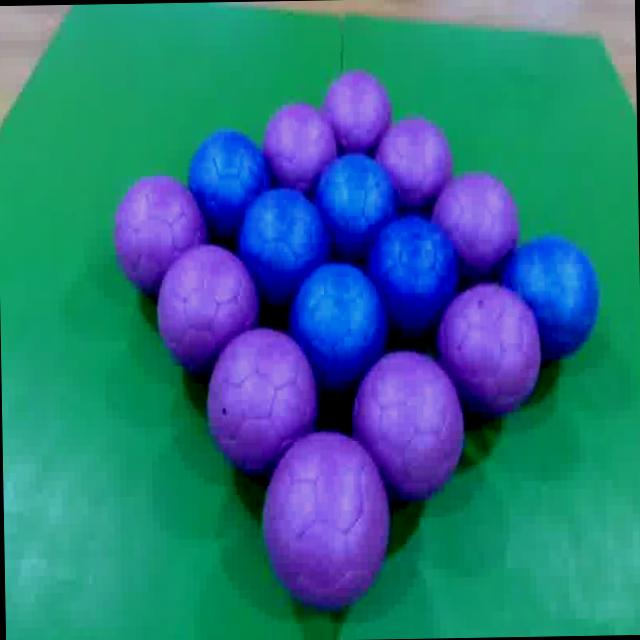blue_ball: (298, 258, 387, 364), (369, 219, 447, 323), (245, 185, 318, 295), (316, 156, 392, 261), (534, 233, 596, 342), (193, 128, 264, 221)
purple_ball: (258, 423, 391, 605), (360, 354, 455, 492), (212, 336, 305, 464), (156, 245, 240, 374), (112, 156, 191, 292), (450, 167, 522, 280), (458, 294, 522, 398), (389, 106, 458, 198), (324, 70, 394, 144), (264, 102, 332, 175)
